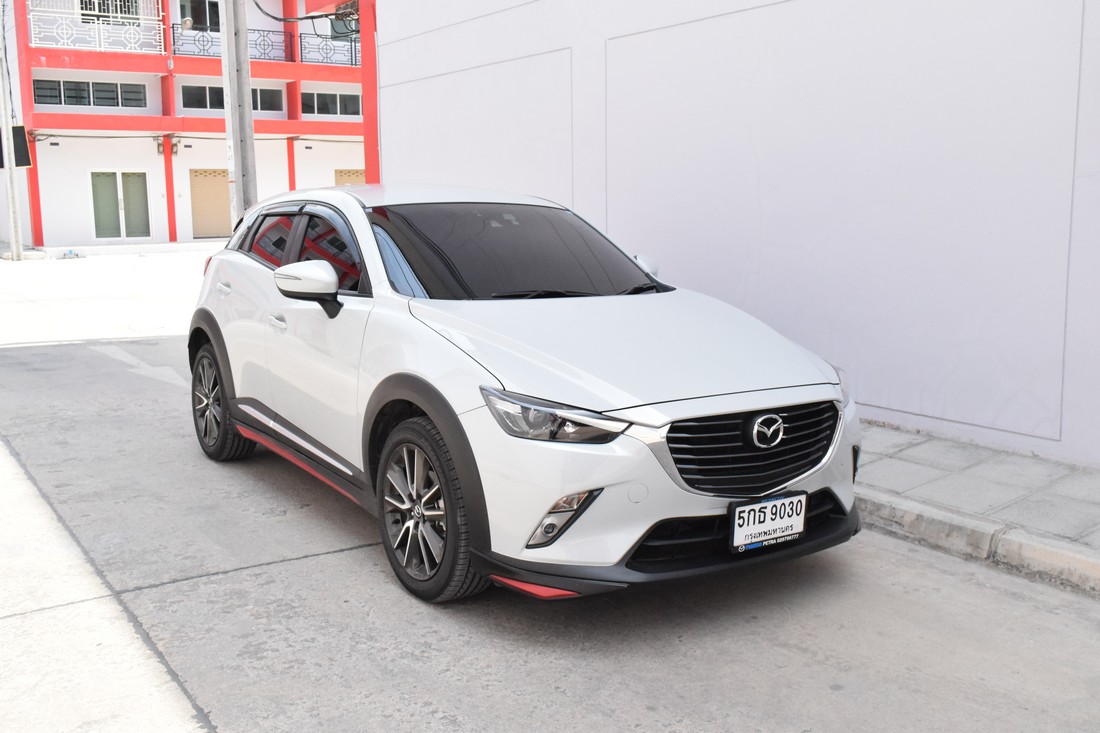pickup: (188, 177, 864, 615)
